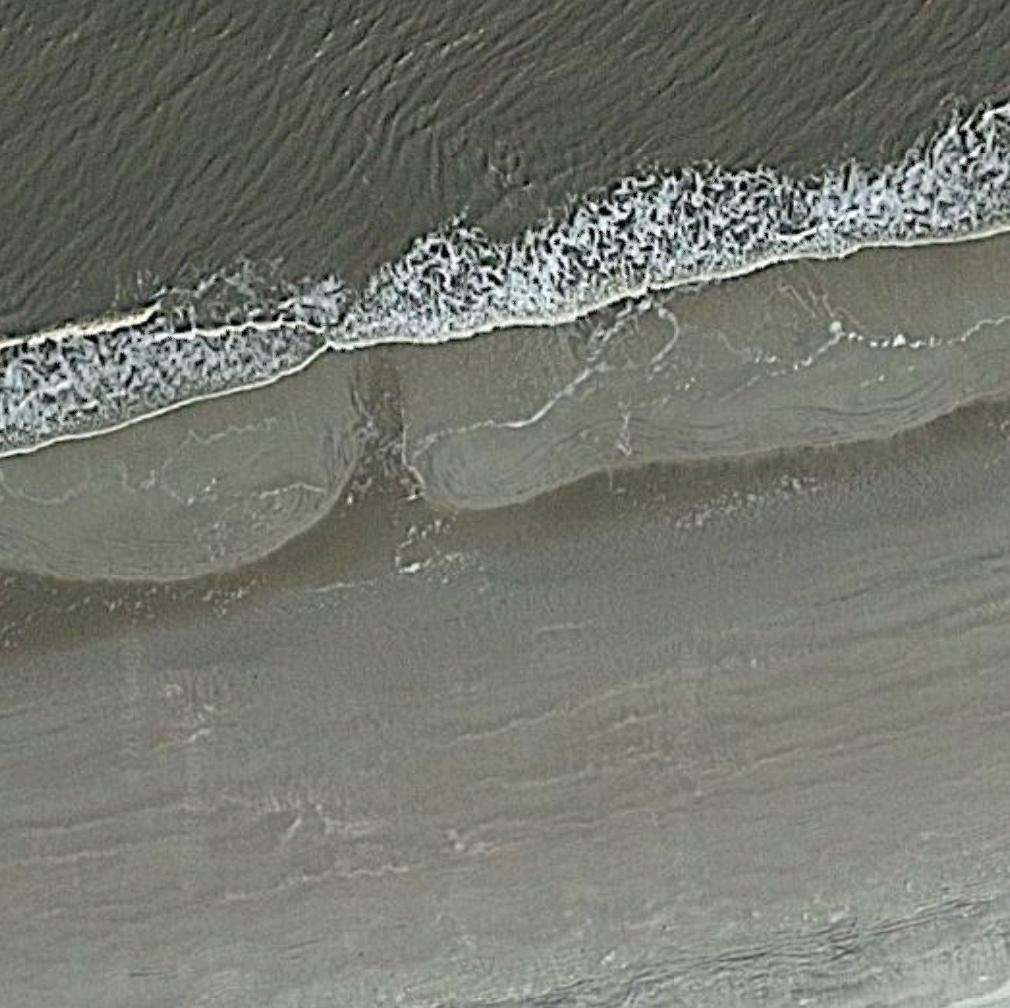rip_current: (298, 282, 445, 479)
